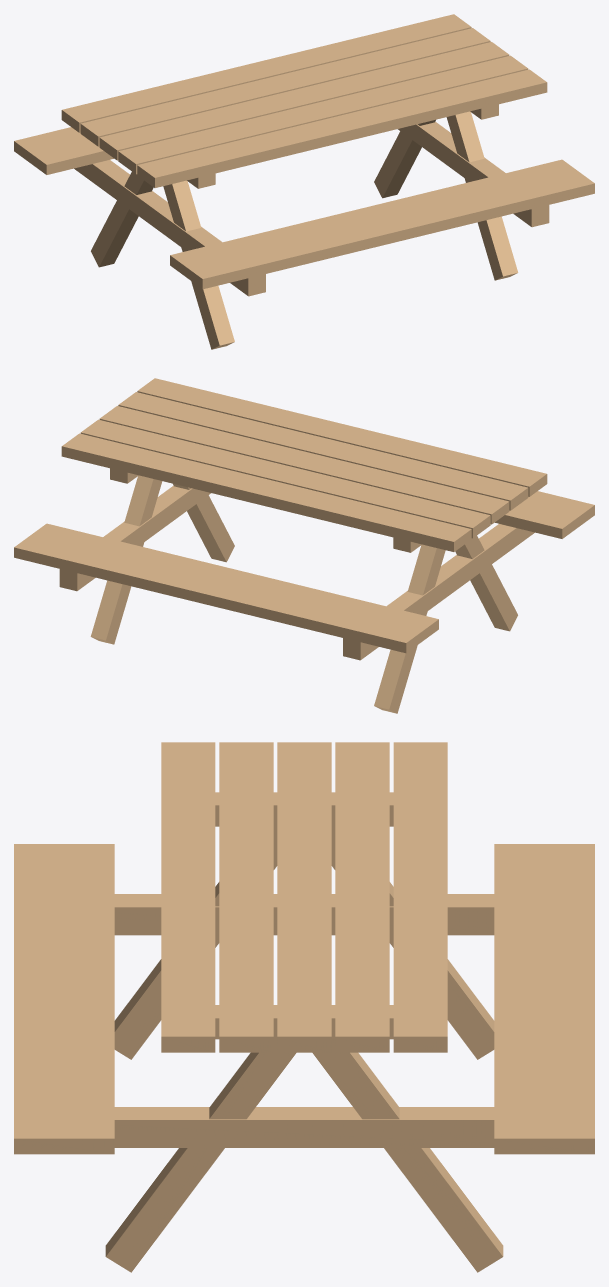
The model's file is SM_Backyard_PicnicTable.fbx.
The picture shows the model from 3 angles, top to bottom: view 1: azimuth 30°, elevation 25°; view 2: azimuth 150°, elevation 25°; view 3: azimuth 270°, elevation 25°; orthographic projection. The views are drawn at different scales.
Parts seen in each view (by area): view 1: SM_Backyard_PicnicTable; view 2: SM_Backyard_PicnicTable; view 3: SM_Backyard_PicnicTable.
Part boxes in pixels (x1,y1,x2,y2): SM_Backyard_PicnicTable: (14,14,594,349); SM_Backyard_PicnicTable: (14,378,594,713); SM_Backyard_PicnicTable: (14,742,594,1272).
Bounding box in the file's own units: 180 × 150 × 77.25.
